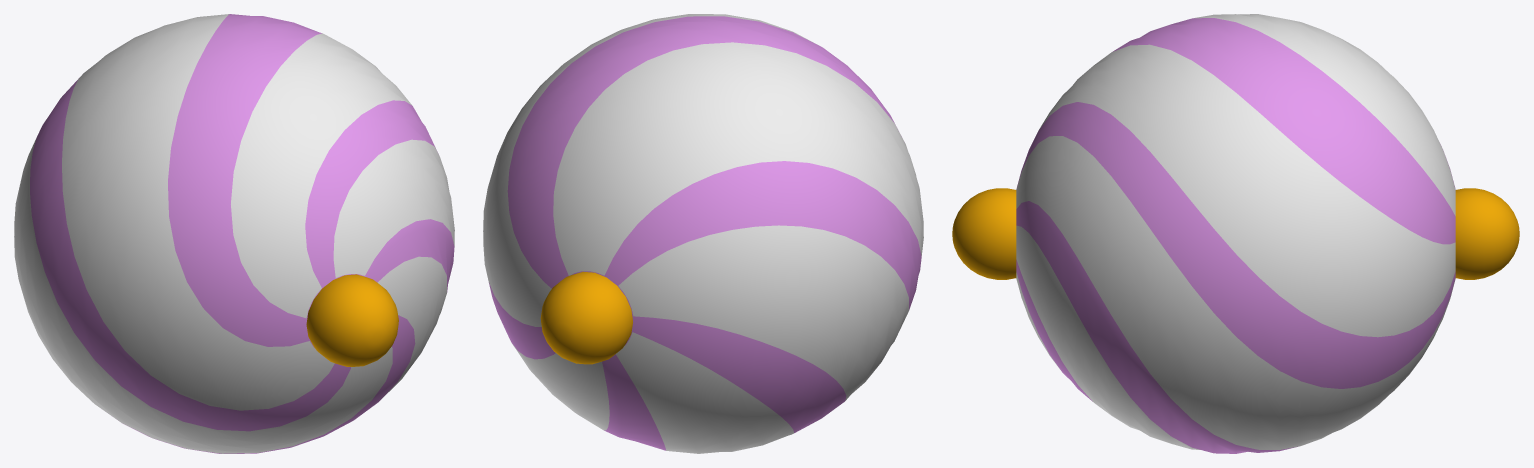
The model's file is CARAMELO 1.fbx.
The picture shows the model from 3 angles, left to right: view 1: azimuth 30°, elevation 25°; view 2: azimuth 150°, elevation 25°; view 3: azimuth 270°, elevation 25°; orthographic projection.
Parts seen in each view (by area): view 1: Caramelo 1.016; view 2: Caramelo 1.016; view 3: Caramelo 1.016.
Part boxes in pixels (bbox=[...]): Caramelo 1.016: bbox=[14, 14, 454, 453]; Caramelo 1.016: bbox=[483, 14, 923, 453]; Caramelo 1.016: bbox=[952, 14, 1519, 453].
Bounding box in the file's own units: 655 × 655 × 843.
